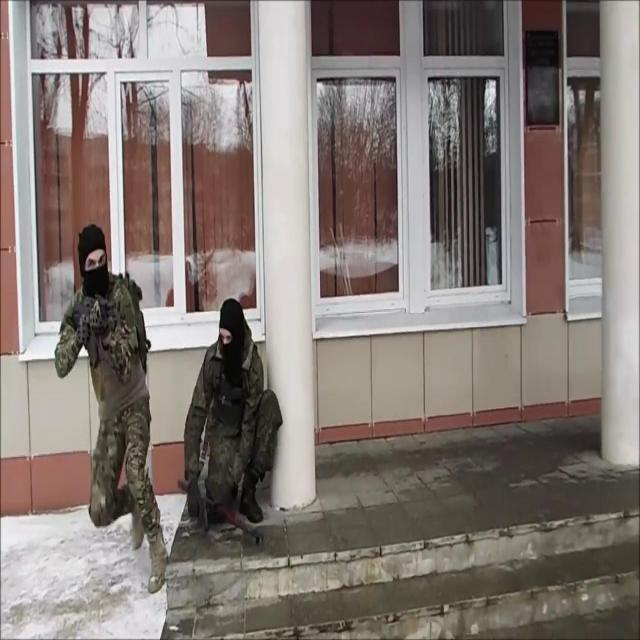gun: (55, 223, 169, 595), (183, 299, 283, 533), (71, 293, 126, 369), (187, 495, 209, 533)
